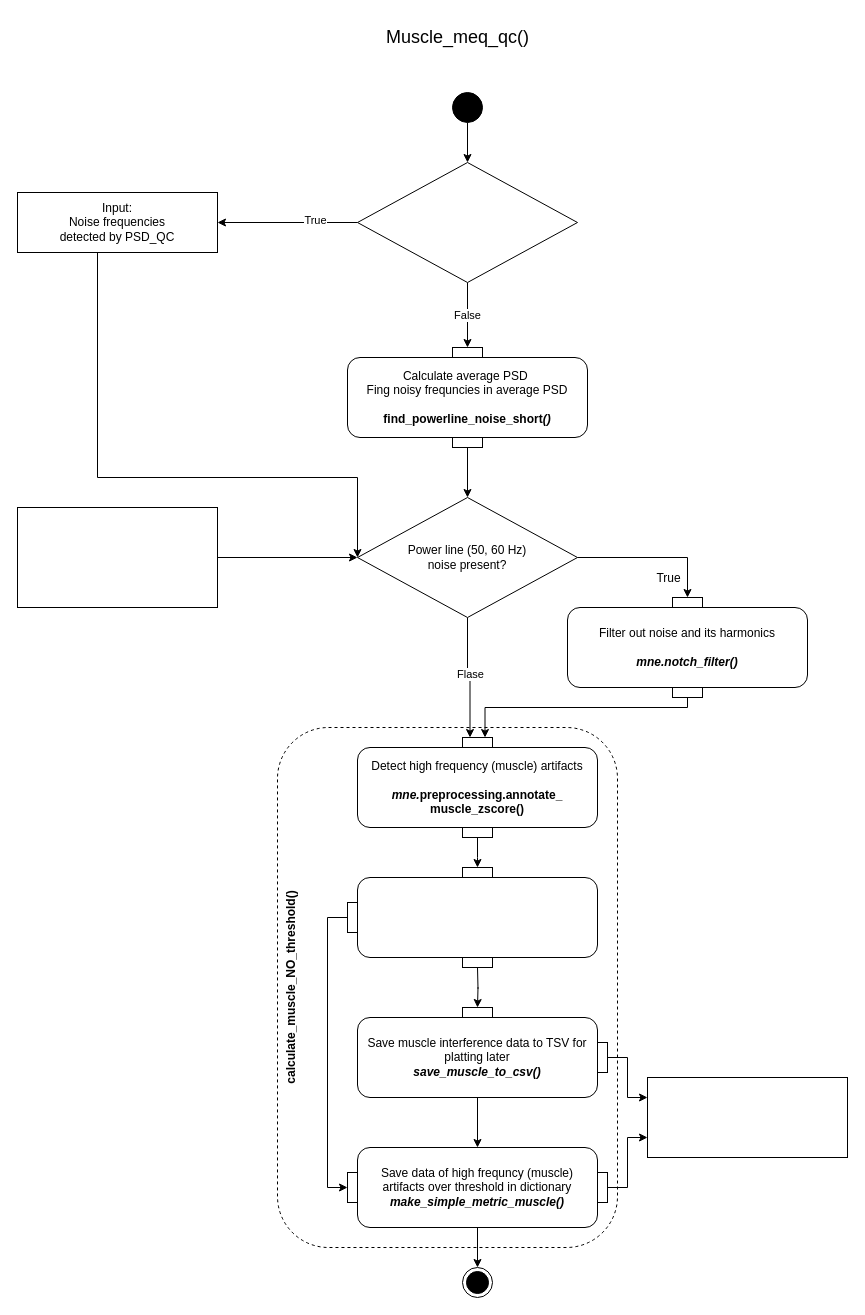
The diagram is 865 pixels wide and 1315 high, and some of its shapes have lost their labels. The centre of each missing label's shape, as x and y in pixels:
Find number and time artifacts above z score threshold(s) find_peaks (): pixel 477 917
Input: Raw data, Config parameters (Muscle + PSD): pixel 117 557
Noise frequencies calculated by PSD?: pixel 467 222
Output: List of QC derivatives (tsvs) Dict as Simple metric Str about artifacts: pixel 747 1117
